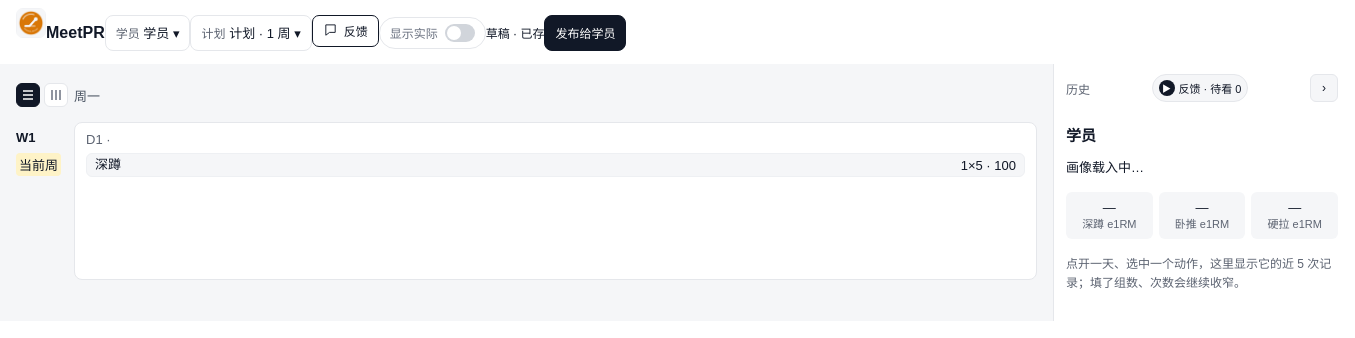
Test case: PlanEditor save failure reasons › shows network reason when publishing cannot reach the server
Click the button "发布给学员": {"x": 585, "y": 32} left=544, top=14, right=626, bottom=50
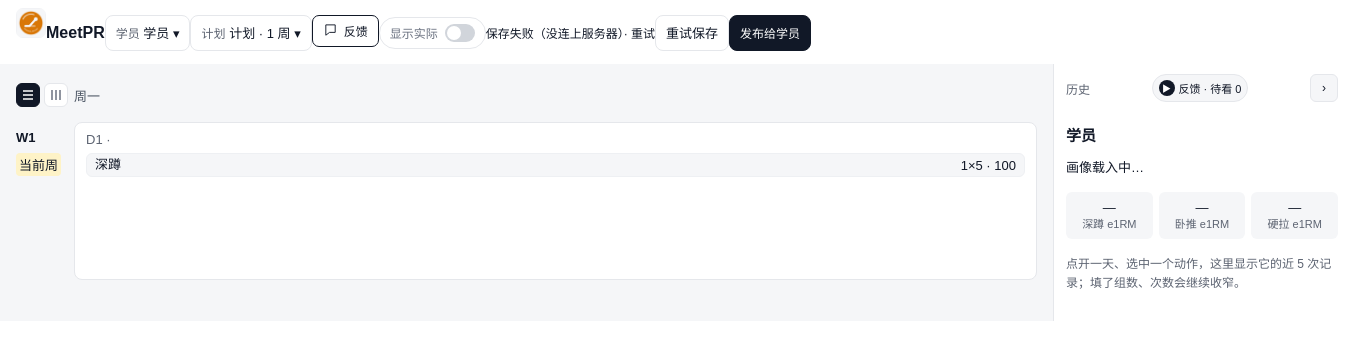
Expected: the text "保存失败（没连上服务器）· 重试" is shown, left=486, top=27, right=655, bottom=41
